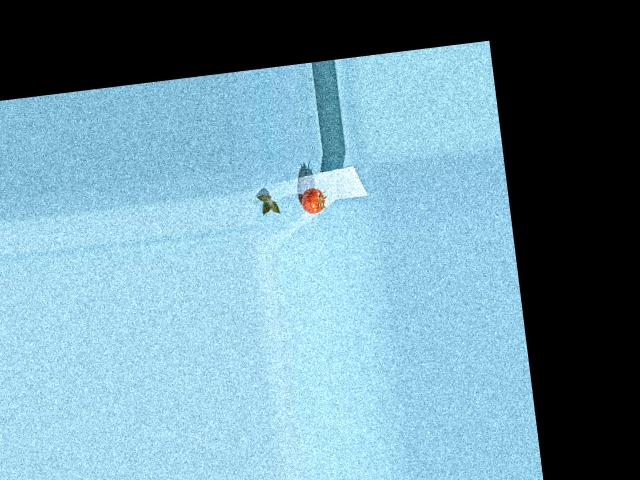tomato: (299, 186, 326, 215)
